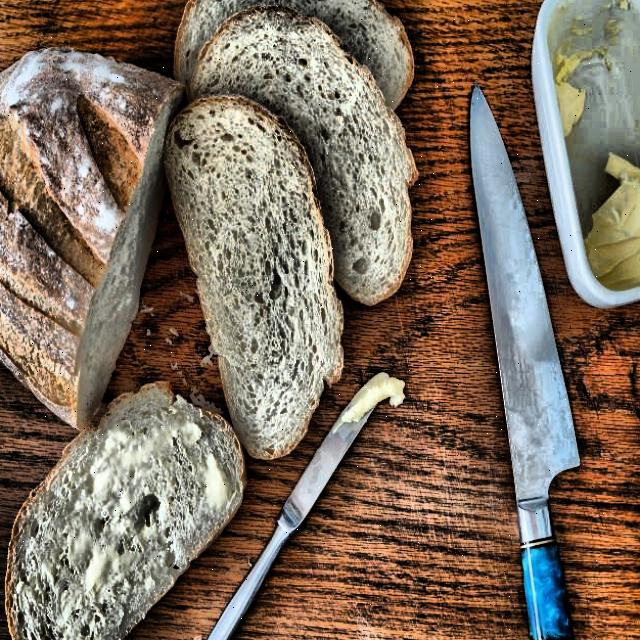knife: (461, 82, 586, 640)
